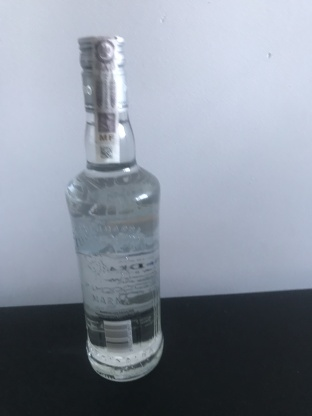nakretka: (75, 31, 131, 116)
